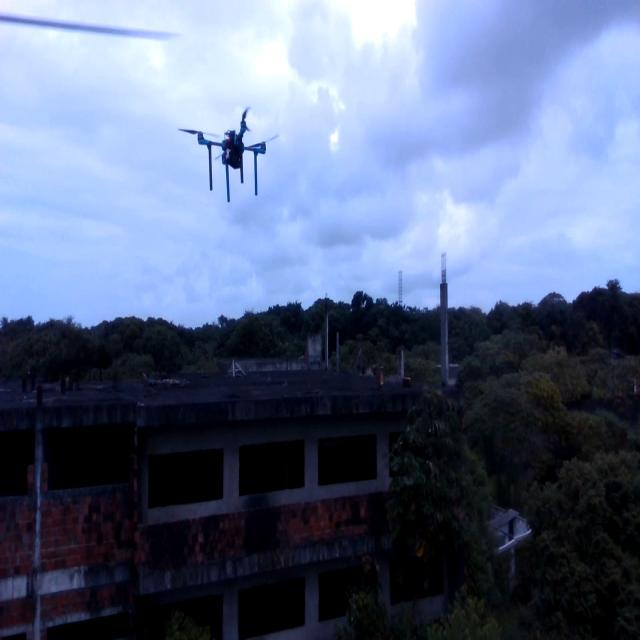-uav-: (174, 101, 282, 212)
